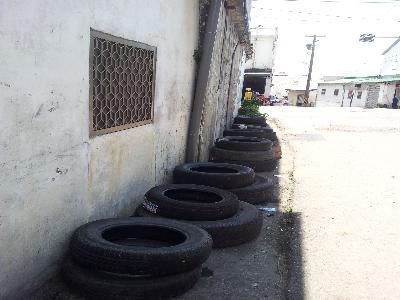tire: (70, 216, 213, 274), (142, 183, 240, 221), (173, 161, 255, 189), (215, 135, 273, 153)
